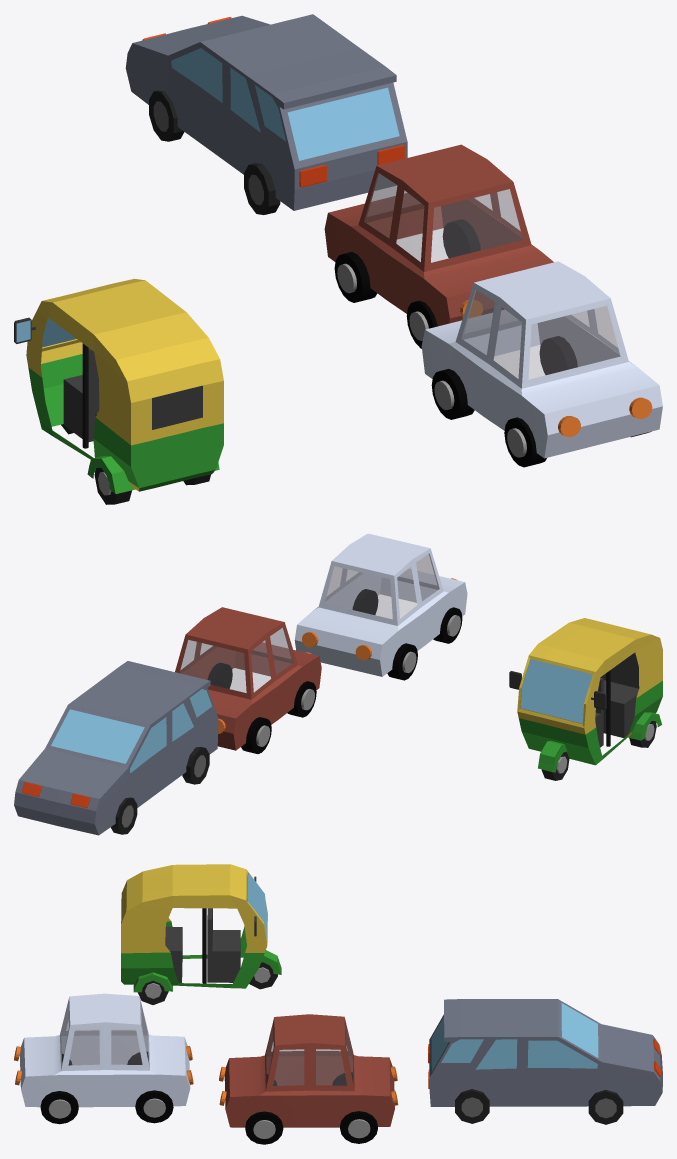
The model's file is Traffic .fbx.
3 renders of one model, top to bottom at view 1: azimuth 30°, elevation 25°; view 2: azimuth 150°, elevation 25°; view 3: azimuth 270°, elevation 25°, orthographic. The views are drawn at different scales.
Visible parts, largest first — view 1: SUV, Auto, Car, Car Darker; view 2: SUV, Auto, Car, Car Darker; view 3: SUV, Car Darker, Car, Auto.
Boxes of the visible parts, x1,y1,x2,y2 form: SUV: (125,14,407,214); Auto: (14,278,223,504); Car: (421,261,662,467); Car Darker: (324,144,553,348); SUV: (14,661,218,835); Auto: (509,618,662,780); Car: (294,533,467,680); Car Darker: (175,607,321,753); SUV: (428,999,662,1124); Car Darker: (219,1014,398,1144); Car: (14,993,193,1124); Auto: (121,864,281,1004).
Bounding box in the file's own units: 57.66 × 16.38 × 87.27.
